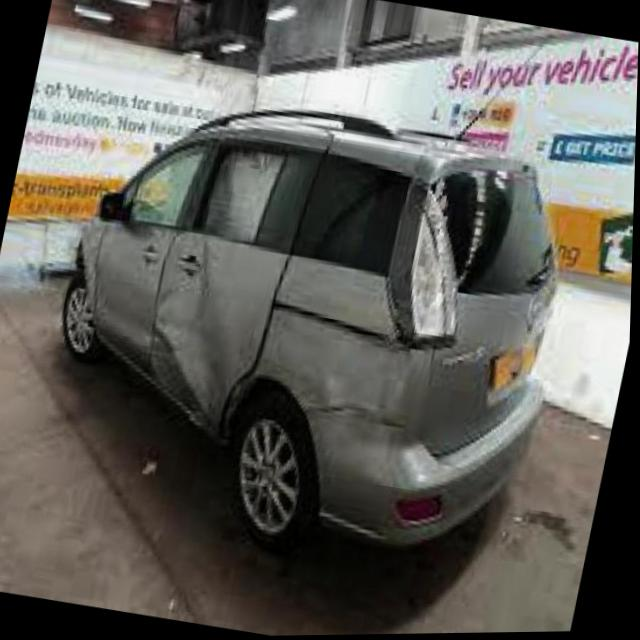Car-Damage: (129, 233, 430, 452)
